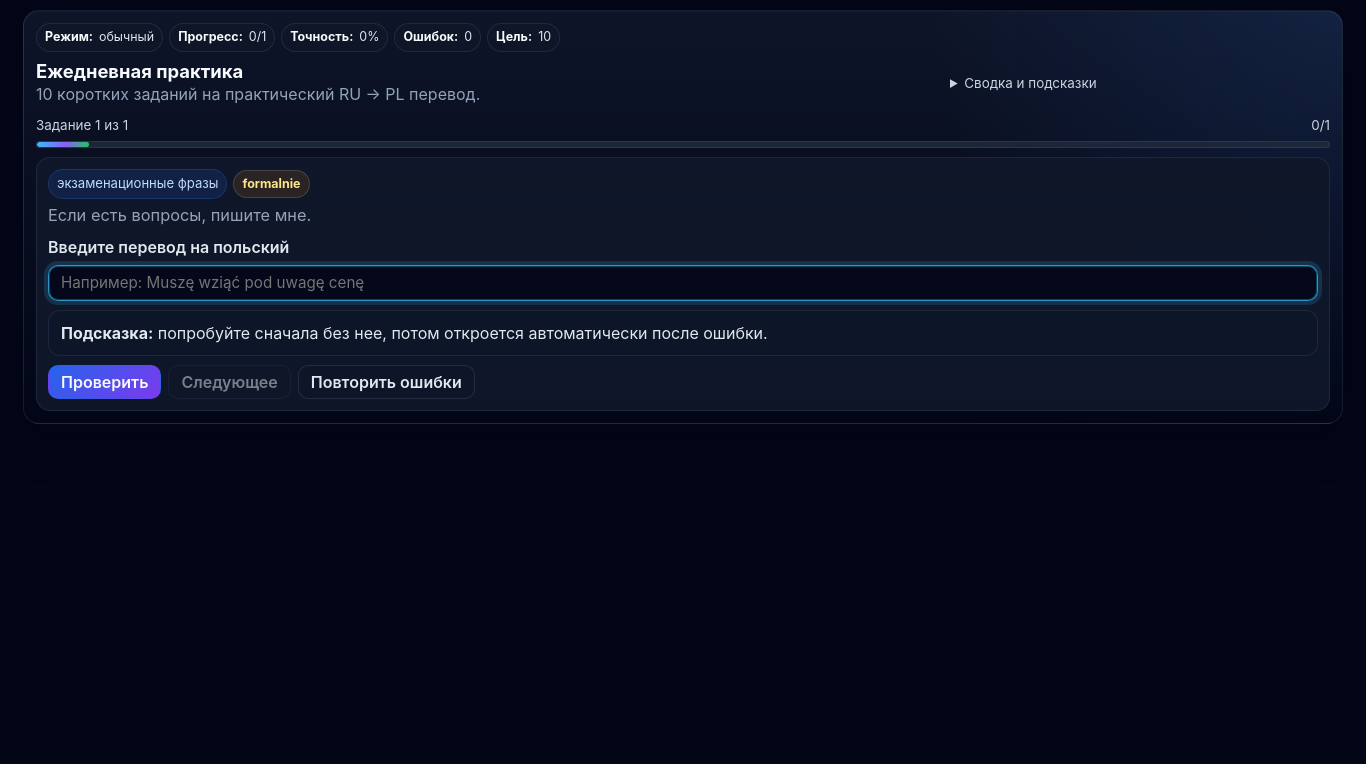
Test: TrainerScreen retry-after-error UX › shows register badge, accepts an informal variant, and separates grammar from register notes
Expected: the text "formalnie" is shown, [234,170,310,198]
Step 1. Type "Jeśli masz pytania, napisz do mnie." into the field labelled "Введите перевод на польский" → coordinates (683, 283), box [48,265,1318,301]
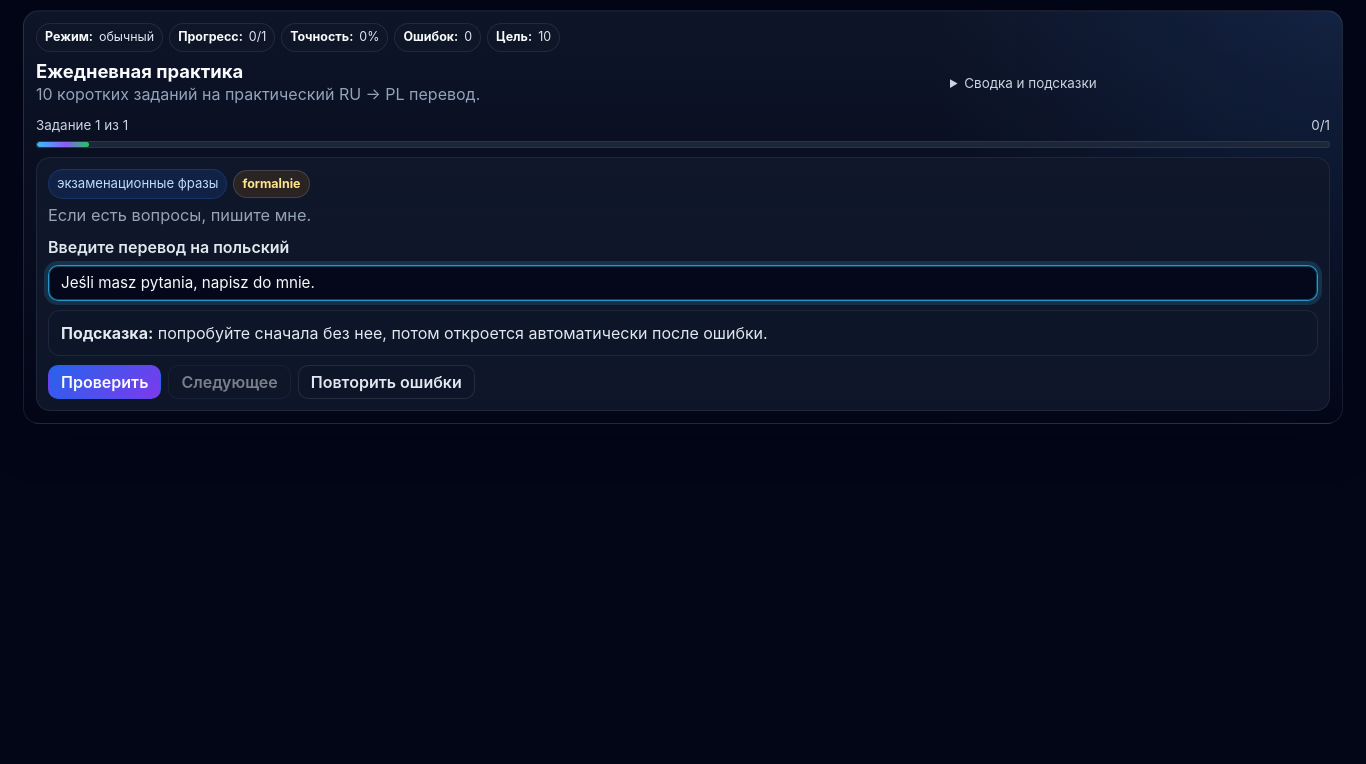
Step 2. Click the button "Проверить" → coordinates (105, 382), box [48,365,161,399]
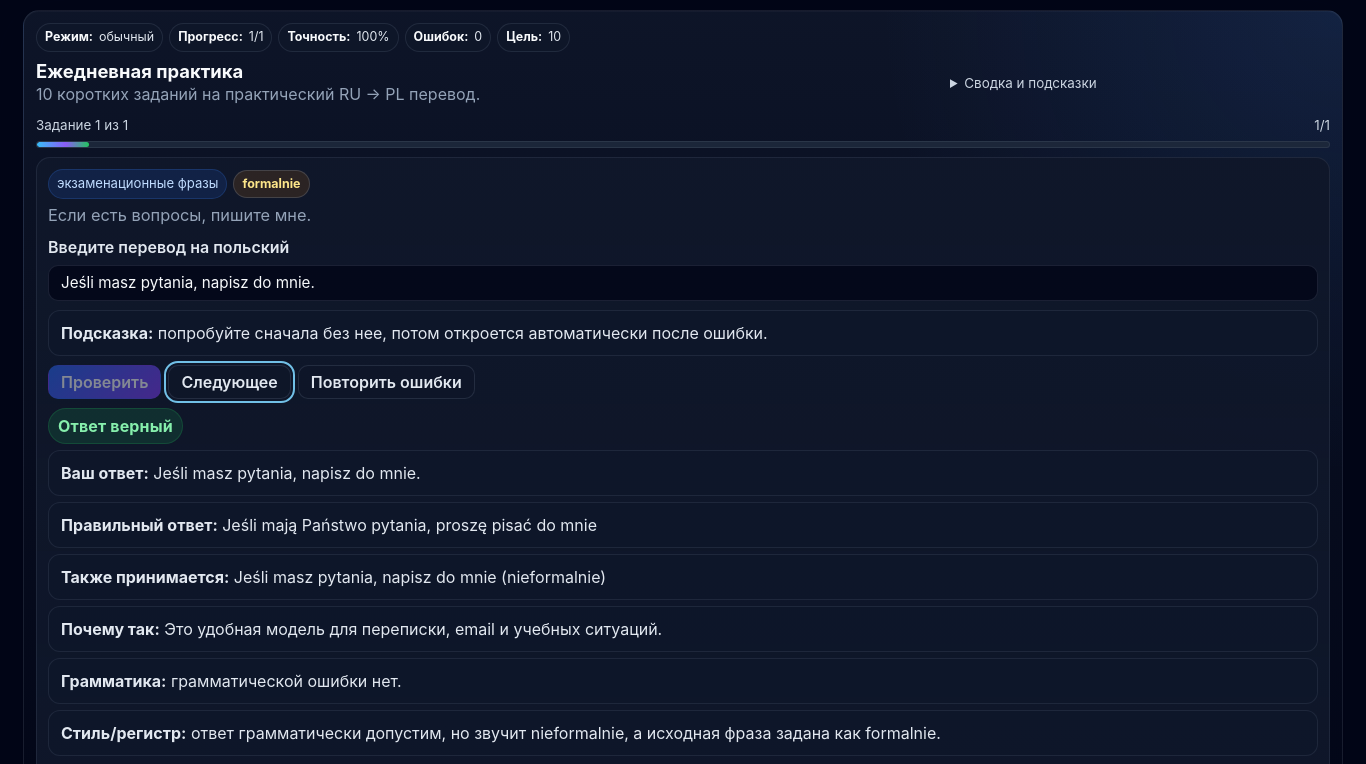
Now the text "Ответ верный" is shown, box [48,408,183,444]
Now the text "Jeśli mają Państwo pytania, proszę pisać do mnie" is shown, box [222,515,597,535]
Now the text "Jeśli masz pytania, napisz do mnie (nieformalnie)" is shown, box [234,567,606,587]
